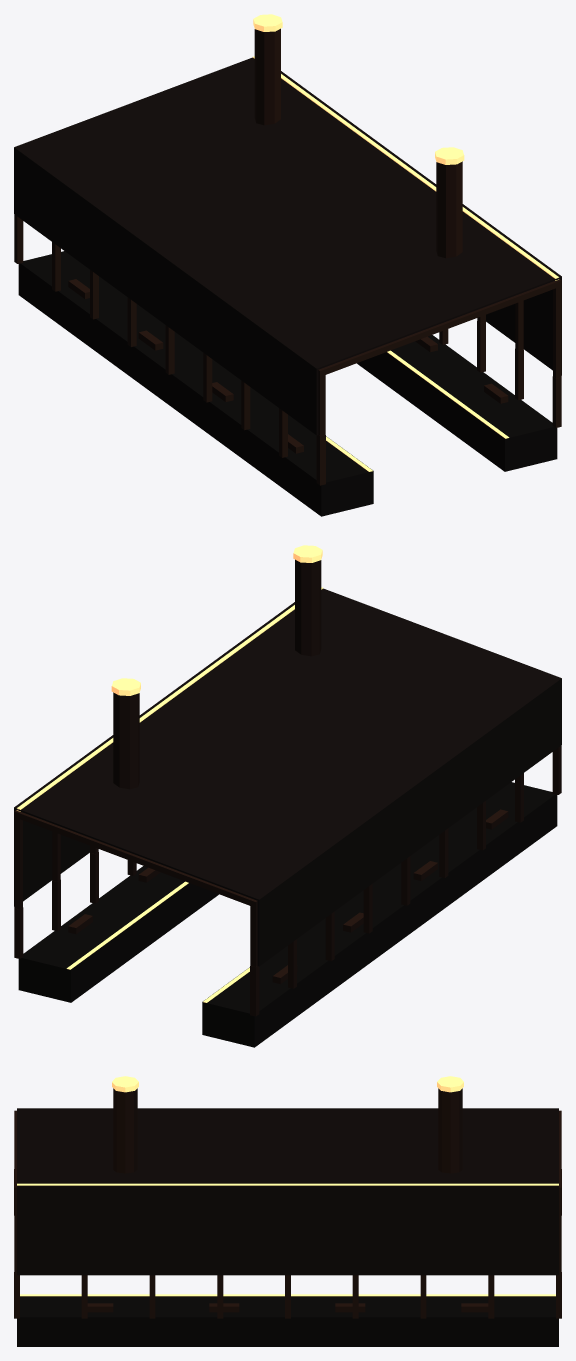
File: shaddai_station_volcano_v01.glb
The picture shows the model from 3 angles, top to bottom: view 1: azimuth 30°, elevation 25°; view 2: azimuth 150°, elevation 25°; view 3: azimuth 270°, elevation 25°; orthographic projection. The views are drawn at different scales.
Parts seen in each view (by area): view 1: shaddai_station_volcano; view 2: shaddai_station_volcano; view 3: shaddai_station_volcano.
Boxes of the visible parts, bbox=[...] form: shaddai_station_volcano: bbox=[14, 14, 561, 516]; shaddai_station_volcano: bbox=[14, 545, 561, 1047]; shaddai_station_volcano: bbox=[14, 1076, 561, 1346].
Bounding box in the file's own units: 18.72 × 19.9 × 40.44.
